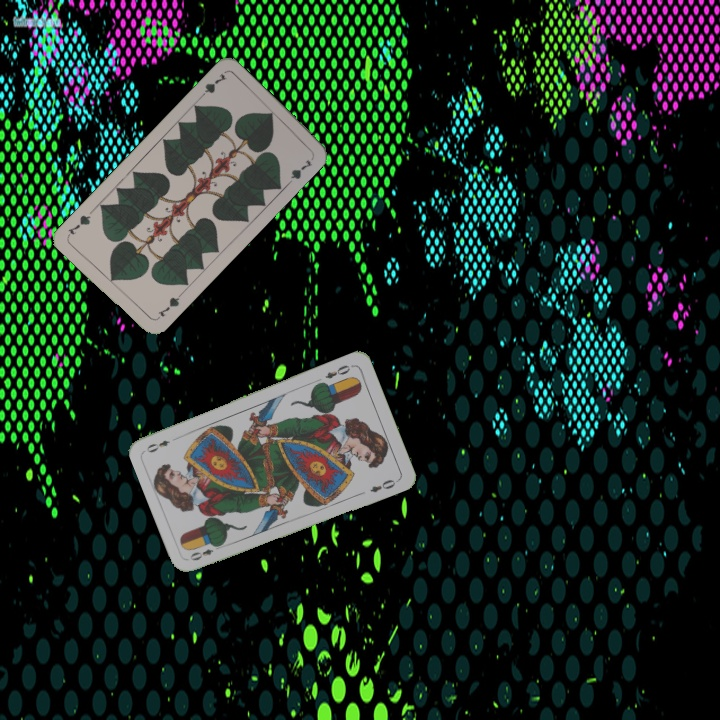EO: (186, 541, 225, 563), (321, 361, 353, 381)
G7: (195, 69, 230, 102), (152, 290, 184, 322)
